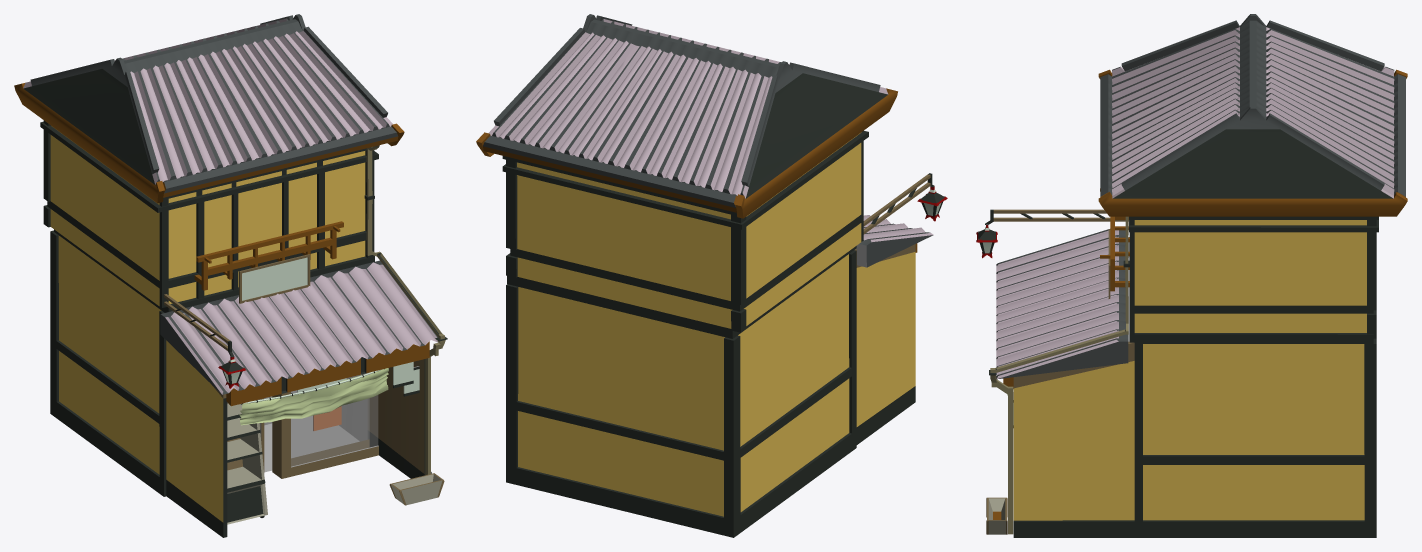
File: Comercio_1.1.fbx
3 views of the same model, side by side, from view 1: azimuth 30°, elevation 25°; view 2: azimuth 150°, elevation 25°; view 3: azimuth 270°, elevation 25° (orthographic). The views are drawn at different scales.
Parts seen in each view (by area): view 1: pCube3, pCube1, pCube2, pCube8, pCube18, pCube29, pPlane1, pCube9, pCube6, pCube7, pCube27, pCube26 (+1 smaller); view 2: pCube1, pCube3, pCube2, pCube8, pCube12; view 3: pCube1, pCube3, pCube2, pCube8, pCube27, pCube12, pCube6, pCube26.
Boxes of the visible parts, bbox=[...] form: pCube3: bbox=[14, 14, 404, 203]; pCube1: bbox=[50, 230, 431, 537]; pCube2: bbox=[40, 120, 378, 312]; pCube8: bbox=[160, 260, 437, 394]; pCube18: bbox=[272, 372, 378, 478]; pCube29: bbox=[227, 403, 267, 524]; pPlane1: bbox=[239, 368, 388, 425]; pCube9: bbox=[226, 341, 429, 406]; pCube6: bbox=[194, 221, 343, 290]; pCube7: bbox=[239, 254, 310, 303]; pCube27: bbox=[364, 145, 447, 475]; pCube26: bbox=[389, 473, 444, 505]; pCube1: bbox=[506, 244, 915, 537]; pCube3: bbox=[476, 14, 897, 218]; pCube2: bbox=[502, 130, 868, 338]; pCube8: bbox=[856, 215, 933, 267]; pCube12: bbox=[863, 173, 934, 234]; pCube1: bbox=[1013, 237, 1376, 537]; pCube3: bbox=[1098, 14, 1407, 216]; pCube2: bbox=[1129, 216, 1378, 343]; pCube8: bbox=[996, 229, 1128, 379]; pCube27: bbox=[989, 216, 1129, 534]; pCube12: bbox=[985, 209, 1128, 224]; pCube6: bbox=[1100, 188, 1129, 291]; pCube26: bbox=[986, 497, 1007, 534].
Size of the model in its own units: 5.02 by 7.71 by 7.18.
